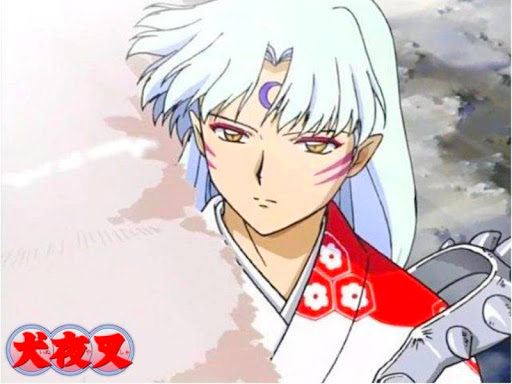sesshomaru: (122, 1, 398, 272)
